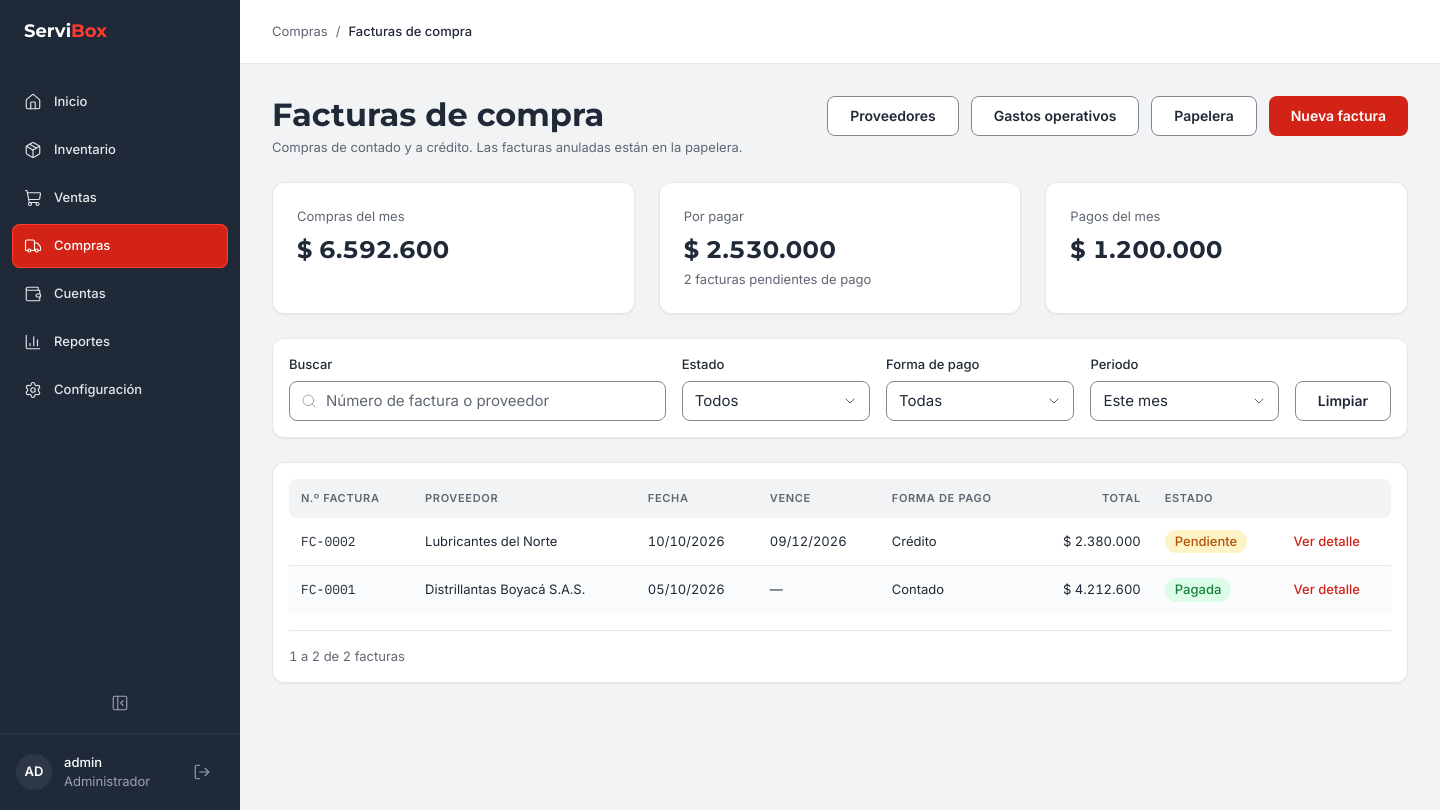
facturas de compra › el boton Papelera lleva a la papelera de compras
Step 1. Click the link "Papelera" → (1204, 116), box [1151,96,1257,136]
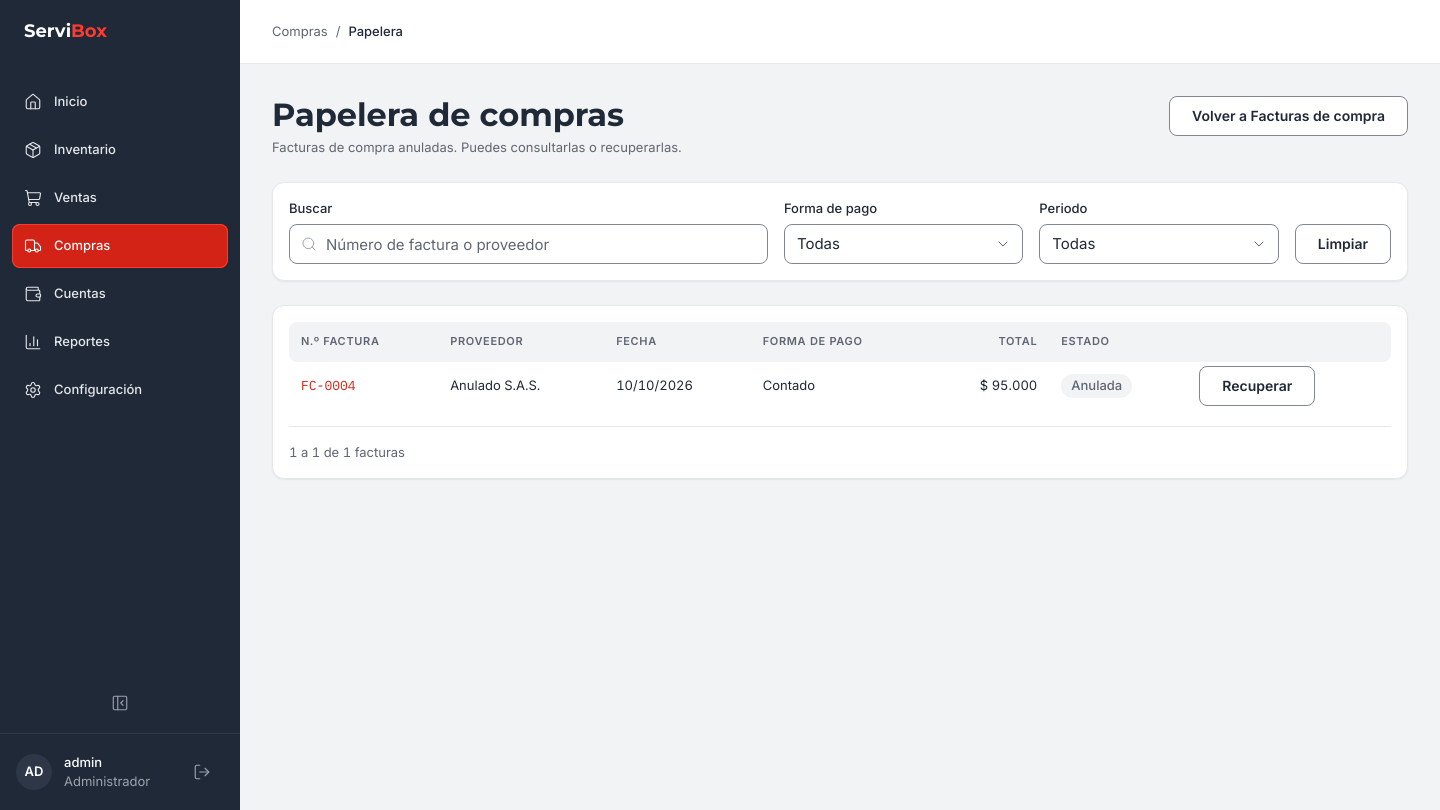
Expected: the heading "Papelera de compras" is shown, [272,96,682,134]
